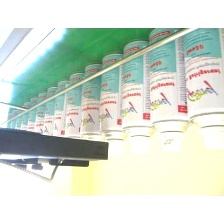aerosol_cans: (145, 24, 196, 154), (181, 13, 223, 152), (116, 36, 160, 158), (95, 48, 134, 159), (79, 61, 111, 155), (61, 70, 90, 155), (50, 76, 76, 159)
